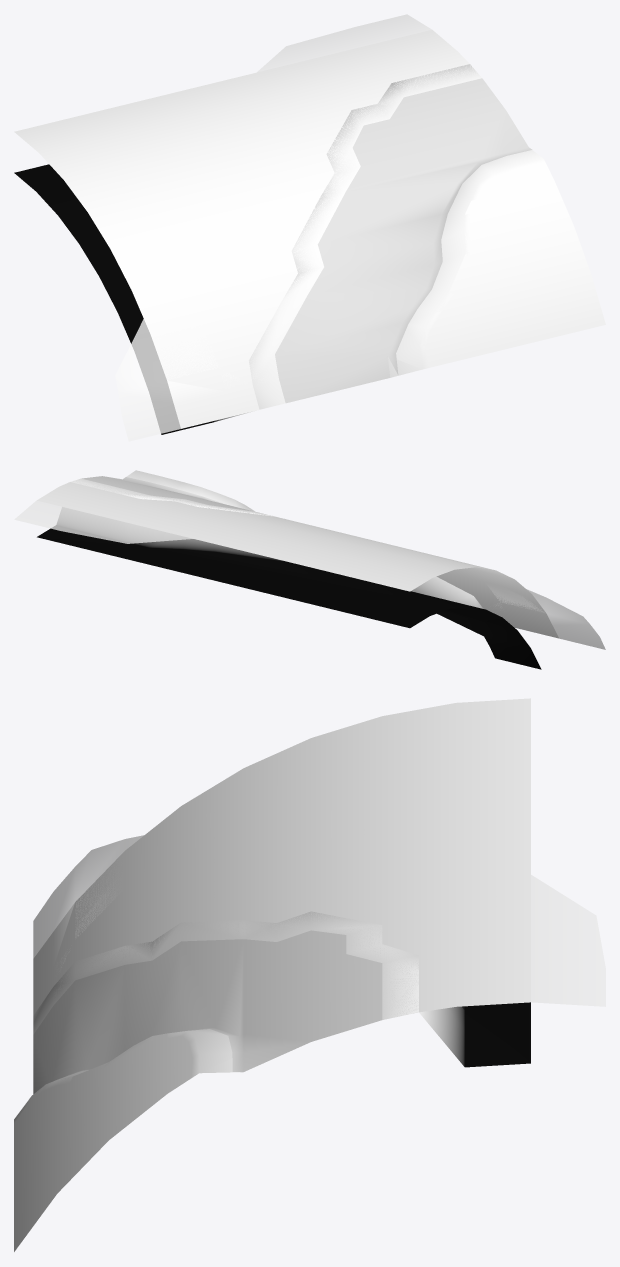
The model's file is grd_Inw_1.dae.
3 views of the same model, one above another, from view 1: azimuth 30°, elevation 25°; view 2: azimuth 150°, elevation 25°; view 3: azimuth 270°, elevation 25° (orthographic). The views are drawn at different scales.
Parts seen in each view (by area): view 1: ocean_4_0, beach_0_0, wave_5_0, grass_3_0, beach_1_0, beach_cliff_2_0; view 2: beach_1_0, ocean_4_0, wave_5_0, beach_0_0, beach_cliff_2_0; view 3: ocean_4_0, beach_0_0, wave_5_0, grass_3_0, beach_1_0, beach_cliff_2_0.
Boxes of the visible parts, <box> form: ocean_4_0: <box>14,29,478,428</box>; beach_0_0: <box>275,78,532,403</box>; wave_5_0: <box>115,14,468,441</box>; grass_3_0: <box>420,164,605,367</box>; beach_1_0: <box>14,64,481,434</box>; beach_cliff_2_0: <box>388,150,545,377</box>; beach_1_0: <box>37,478,541,669</box>; ocean_4_0: <box>37,481,558,638</box>; wave_5_0: <box>14,483,605,649</box>; beach_0_0: <box>82,476,251,510</box>; beach_cliff_2_0: <box>126,470,254,511</box>; ocean_4_0: <box>33,698,530,1017</box>; beach_0_0: <box>33,930,382,1093</box>; wave_5_0: <box>33,810,605,1011</box>; grass_3_0: <box>14,1033,195,1251</box>; beach_1_0: <box>33,911,530,1067</box>; beach_cliff_2_0: <box>14,1029,239,1123</box>.
Size of the model in its own units: 576 by 228 by 421.
6 materials, 1 textured.
